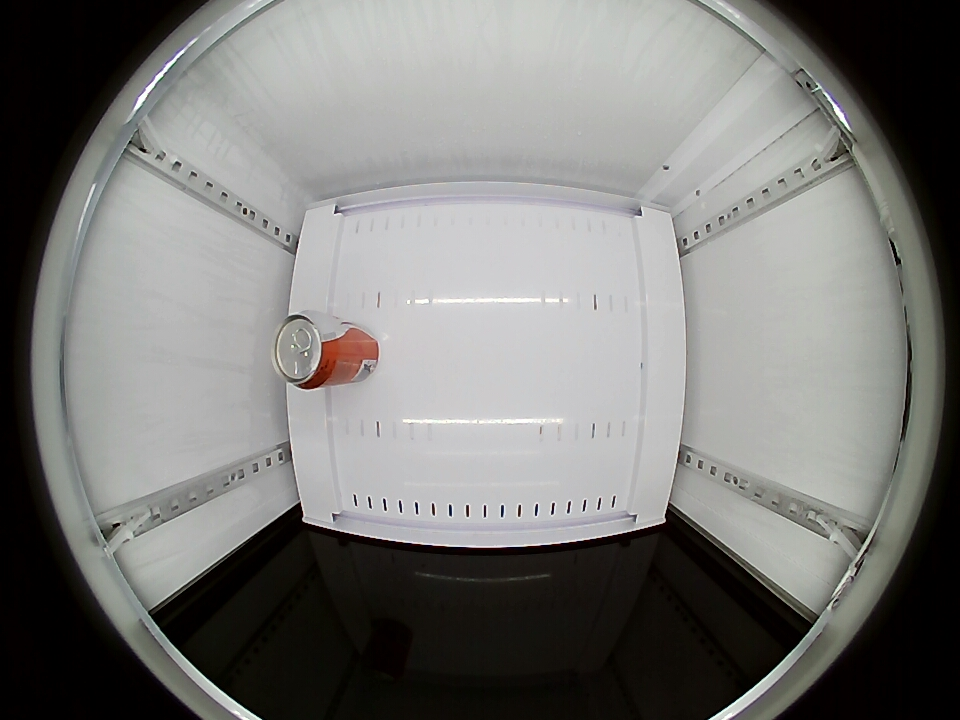jianlibao: (272, 313, 341, 390)
